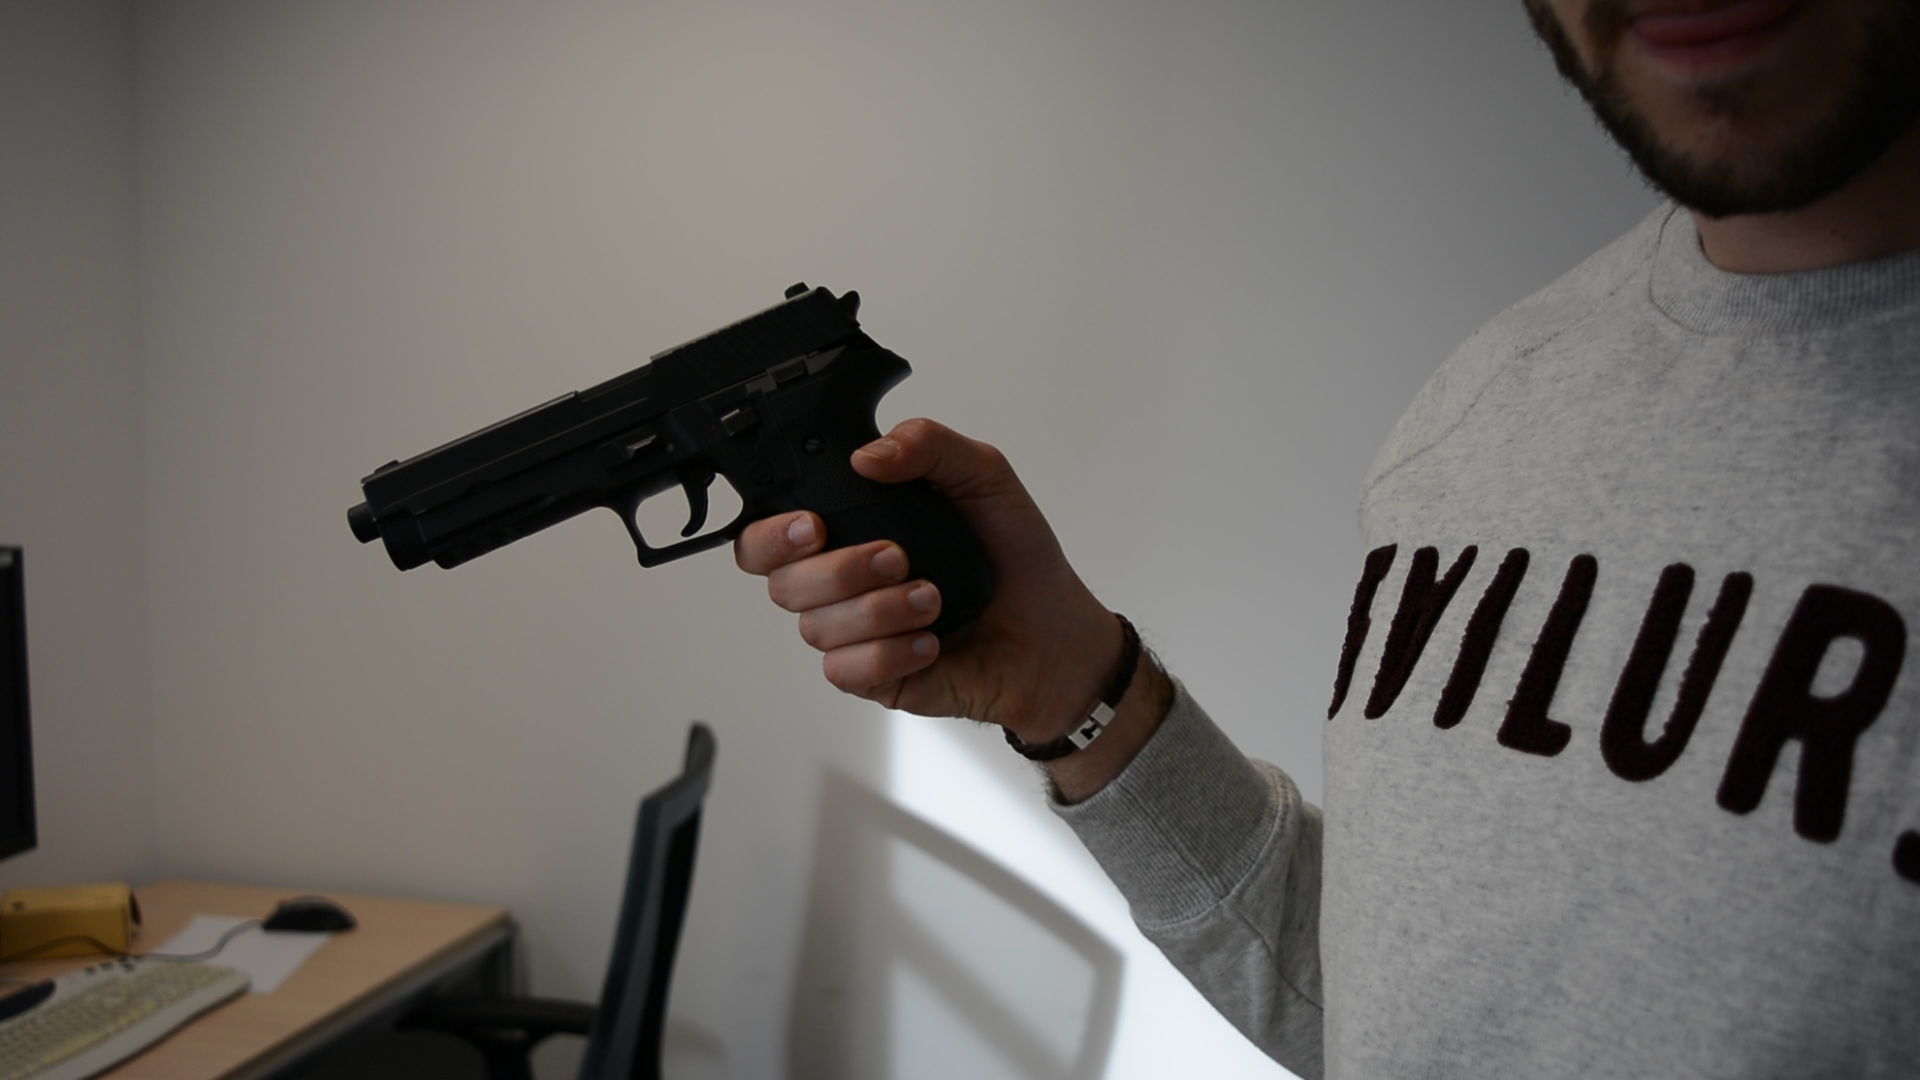pistol: (345, 281, 1007, 638)
